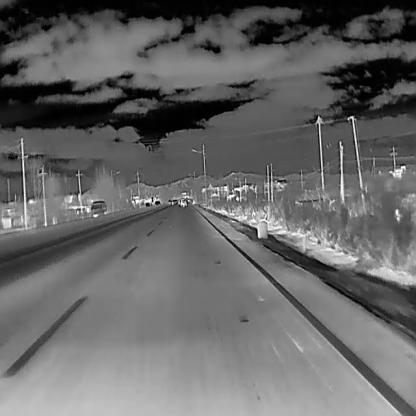car: (89, 199, 107, 218), (180, 198, 187, 206), (154, 200, 161, 205), (145, 202, 150, 207)
